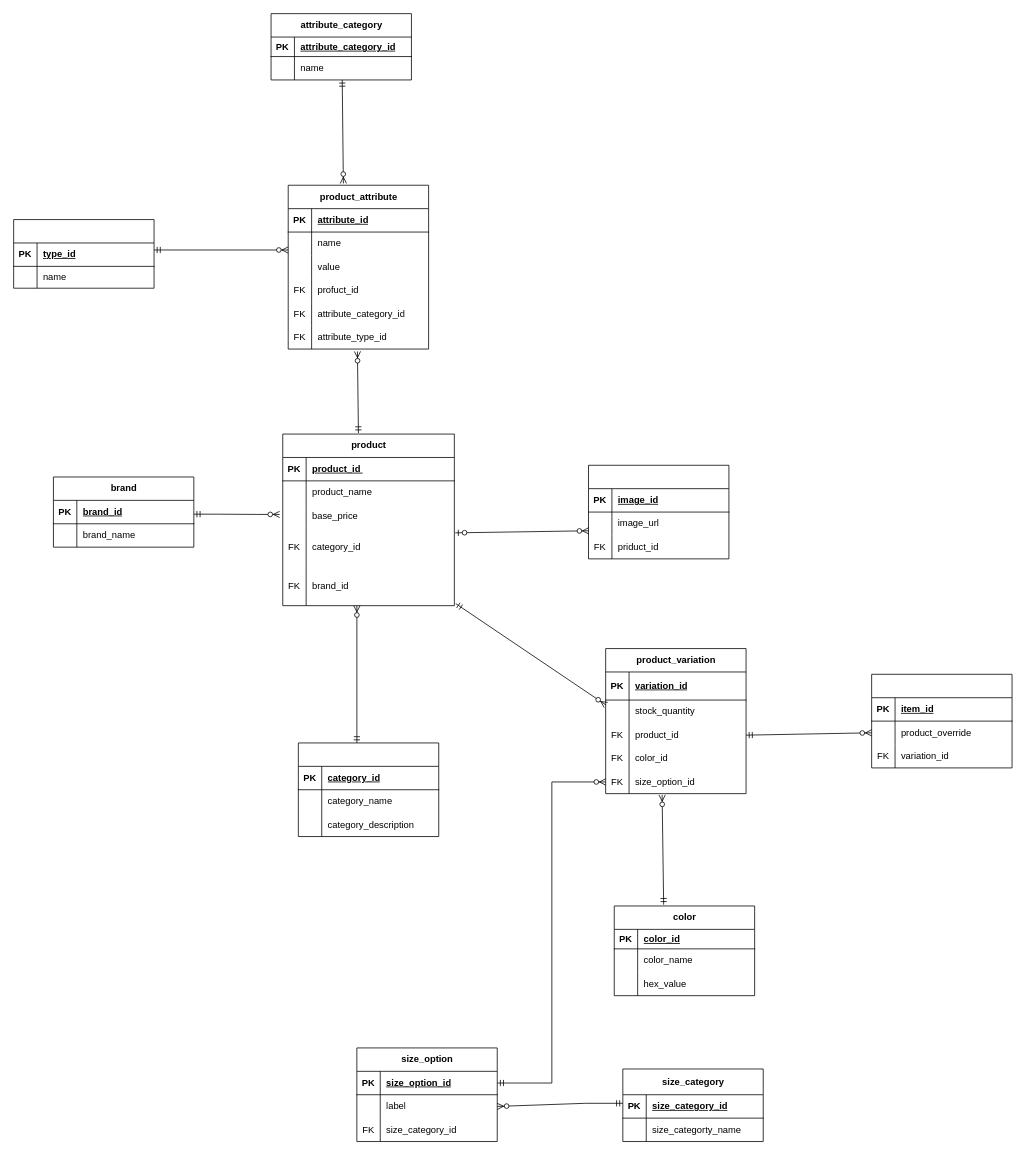
This 1026x1155 diagram has some shape labels left out. The box of each missing label's shape, as (x1, y1, x2, y2) in pixels:
attribute_type: (13, 219, 154, 288)
product_category: (298, 742, 439, 837)
product_image: (588, 464, 729, 559)
product_item: (871, 674, 1012, 768)
